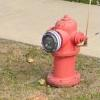a fire hydrant: (41, 14, 88, 88)
